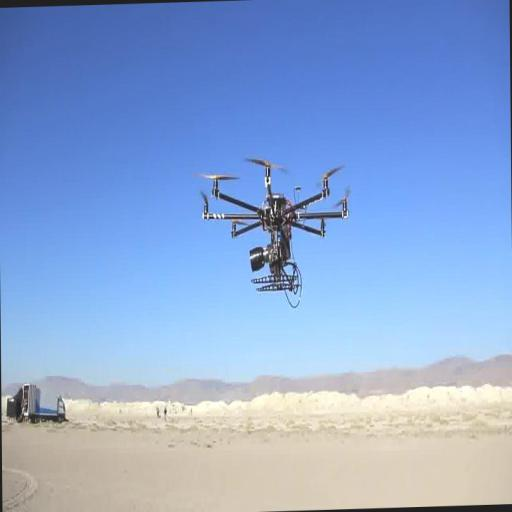drone: (192, 158, 352, 289)
